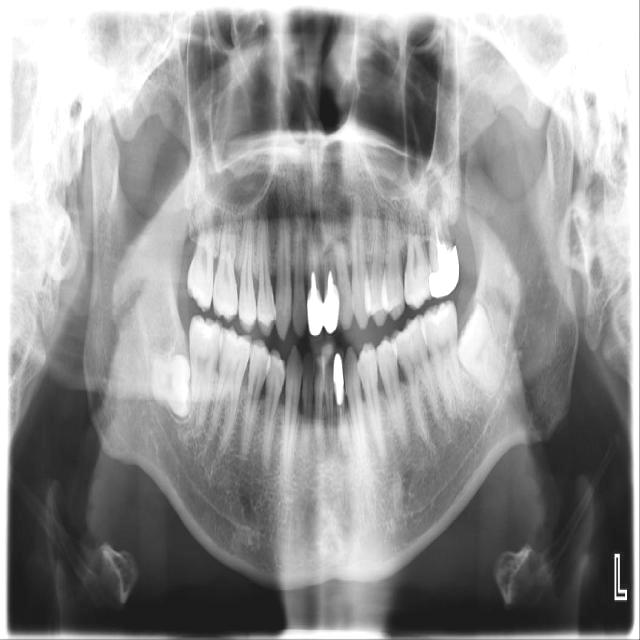Crown: (307, 284, 340, 337), (429, 245, 459, 299), (332, 349, 345, 405)
Root Canal Treatment: (338, 407, 343, 437), (435, 209, 438, 241)
impacted tooth: (460, 304, 508, 398), (146, 354, 192, 420)
